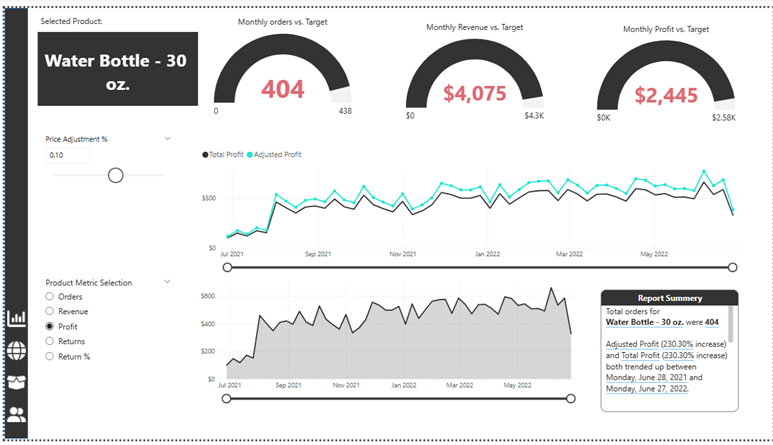

Layout of this report page (visuals, bound fields, positions):
{"tool":"powerbi","page":{"name":"Product Detail","canvas":[1280,720],"ordinal":2},"visuals":[{"type":"shape","title":"Left nav","box":[0,0,38.9,718.9],"z":0},{"type":"actionButton","box":[0,498.8,39.4,40.3],"z":0,"group":"g1"},{"type":"gauge","title":"Monthly orders vs. Target","fields":{"MaxValue":["Calendar Lookup.Order target"],"Y":["Measure Table.Total Orders"]},"box":[343.9,12.5,240,183.6],"z":1000},{"type":"actionButton","box":[0,551.9,39.4,40.3],"z":1000,"group":"g1"},{"type":"gauge","title":"Monthly Revenue vs. Target","fields":{"MaxValue":["Measure Table.Revenue target"],"Y":["Measure Table.Total Revenue"]},"box":[662.6,22.4,240,183.6],"z":2000},{"type":"actionButton","box":[0,605.1,39.4,40.3],"z":2000,"group":"g1"},{"type":"gauge","title":"Monthly Profit vs. Target","fields":{"MaxValue":["Measure Table.Profit Target"],"Y":["Measure Table.Total Profit"]},"box":[981.3,24.3,241.3,183],"z":3000},{"type":"actionButton","box":[0,658.2,39.4,40.3],"z":3000,"group":"g1"},{"type":"lineChart","title":"PROFIT TRENDING","fields":{"Category":["Calendar Lookup.Start of Year Hierarchy.Start of Year","Calendar Lookup.Start of Year Hierarchy.Start of Month","Calendar Lookup.Start of Year Hierarchy.Start of Week","Calendar Lookup.Start of Year Hierarchy.Date"],"Y":["Measure Table.Total Profit","Measure Table.Adjusted Profit"]},"box":[322.5,224.8,919.2,218.7],"z":4000},{"type":"areaChart","title":"RETURNS TRENDING","fields":{"Category":["Calendar Lookup.Start of Year Hierarchy.Start of Year","Calendar Lookup.Start of Year Hierarchy.Start of Month","Calendar Lookup.Start of Year Hierarchy.Start of Week","Calendar Lookup.Start of Year Hierarchy.Date"],"Y":["Measure Table.Total Profit"]},"box":[322.4,443.3,651,219.4],"z":5000},{"type":"card","fields":{"Values":["Min(Product Lookup.ProductName)"]},"box":[55.1,40.5,267.2,123.1],"z":6000},{"type":"textbox","box":[55.1,6.5,131.2,34],"z":7000},{"type":"group","id":"g1","title":"Page navigation","box":[0,498.8,39.4,199.7],"z":8000},{"type":"slicer","fields":{"Values":["Price Adjustment %.Price Adjustment %"]},"box":[55.4,205.6,233.8,113.9],"z":9000},{"type":"slicer","fields":{"Values":["Product Metric Selection.Product Metric Selection"]},"box":[55.5,443.3,233.7,162.1],"z":10000},{"type":"textbox","title":"Report Summery","box":[992.6,469.6,229.9,204],"z":11000}]}

Visuals, with their boxes in screenshot pixels (x1, y1, x2, y2), scaled from the page's 1280x720 canvas onto the 773x445 screenshot:
"Left nav" shape: <bbox>0, 0, 23, 444</bbox>
actionButton: <bbox>0, 308, 24, 333</bbox>
"Monthly orders vs. Target" gauge: <bbox>208, 8, 353, 121</bbox>
actionButton: <bbox>0, 341, 24, 366</bbox>
"Monthly Revenue vs. Target" gauge: <bbox>400, 14, 545, 127</bbox>
actionButton: <bbox>0, 374, 24, 399</bbox>
"Monthly Profit vs. Target" gauge: <bbox>593, 15, 738, 128</bbox>
actionButton: <bbox>0, 407, 24, 432</bbox>
"PROFIT TRENDING" lineChart: <bbox>195, 139, 750, 274</bbox>
"RETURNS TRENDING" areaChart: <bbox>195, 274, 588, 410</bbox>
card - Min(Product Lookup.ProductName): <bbox>33, 25, 195, 101</bbox>
textbox: <bbox>33, 4, 113, 25</bbox>
"Page navigation" group: <bbox>0, 308, 24, 432</bbox>
slicer - Price Adjustment %.Price Adjustment %: <bbox>33, 127, 175, 197</bbox>
slicer - Product Metric Selection.Product Metric Selection: <bbox>34, 274, 175, 374</bbox>
"Report Summery" textbox: <bbox>599, 290, 738, 416</bbox>
